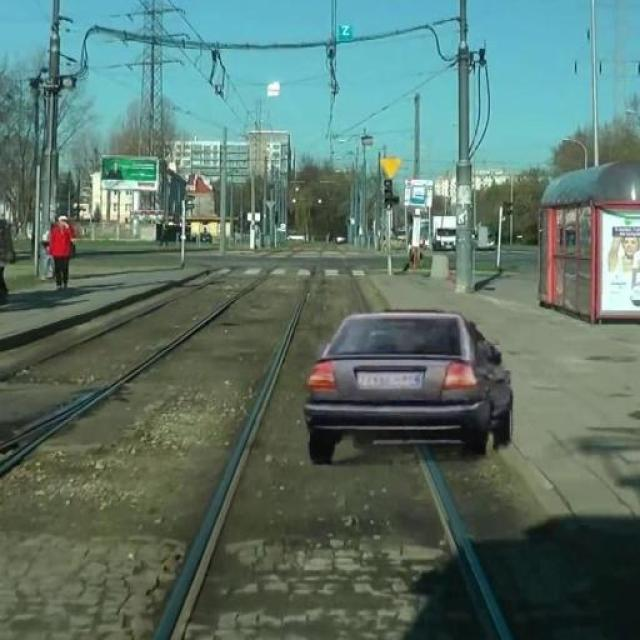people: (47, 210, 80, 295)
vehicle: (299, 302, 520, 463)
